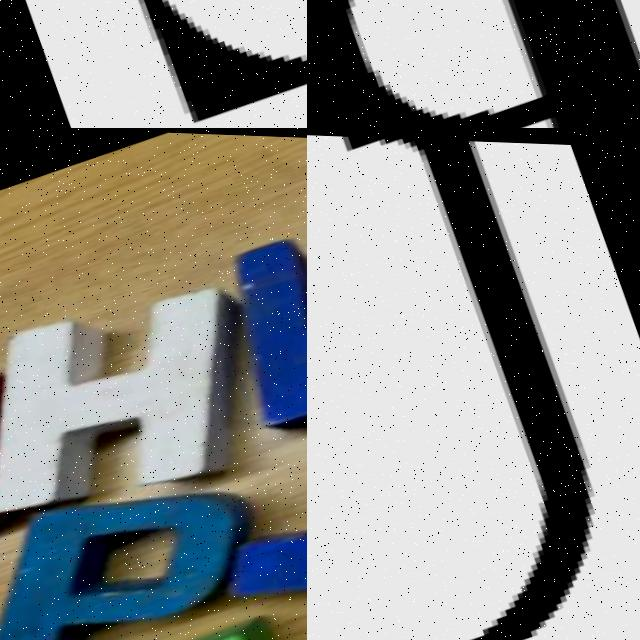B: (307, 0, 640, 128)
F: (13, 592, 307, 640)
H: (0, 262, 278, 558)
N: (204, 160, 307, 455)
U: (307, 128, 640, 640)
Z: (0, 0, 307, 128)
